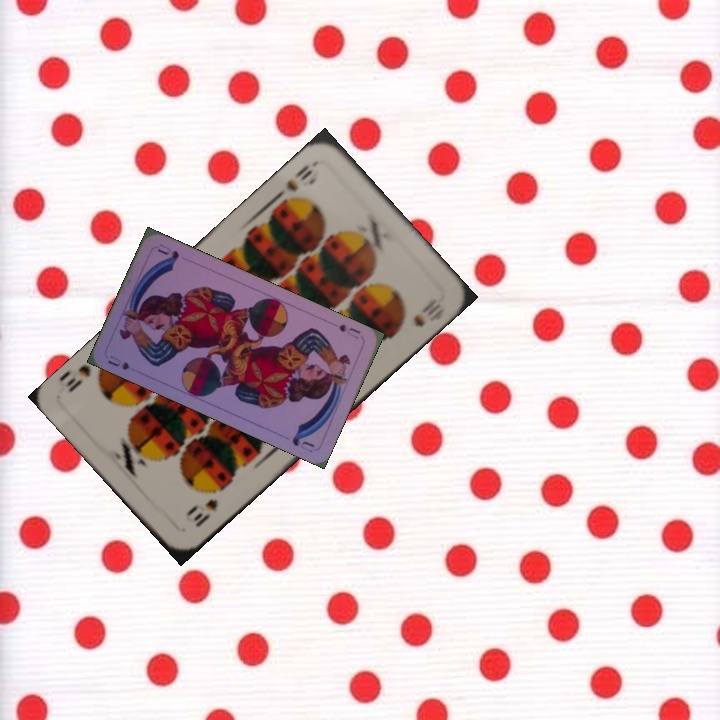S10: (272, 160, 315, 201), (184, 495, 221, 530)
SU: (103, 351, 132, 373), (335, 320, 363, 342)
